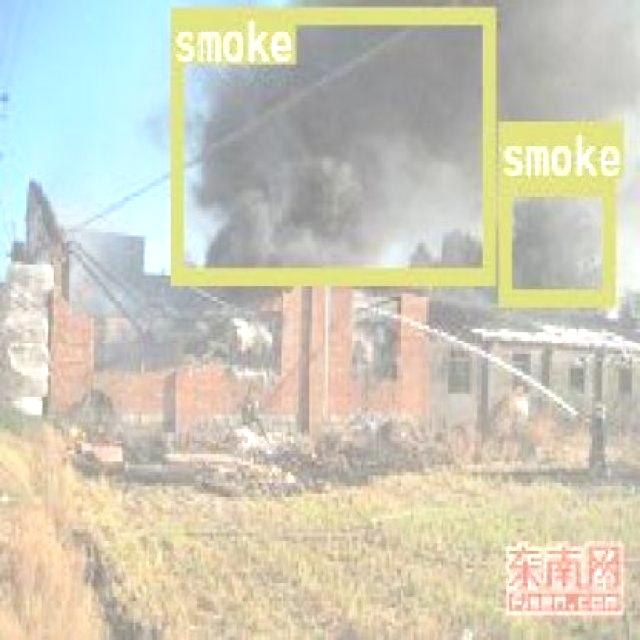smoke: (168, 6, 492, 280), (498, 175, 612, 302)
